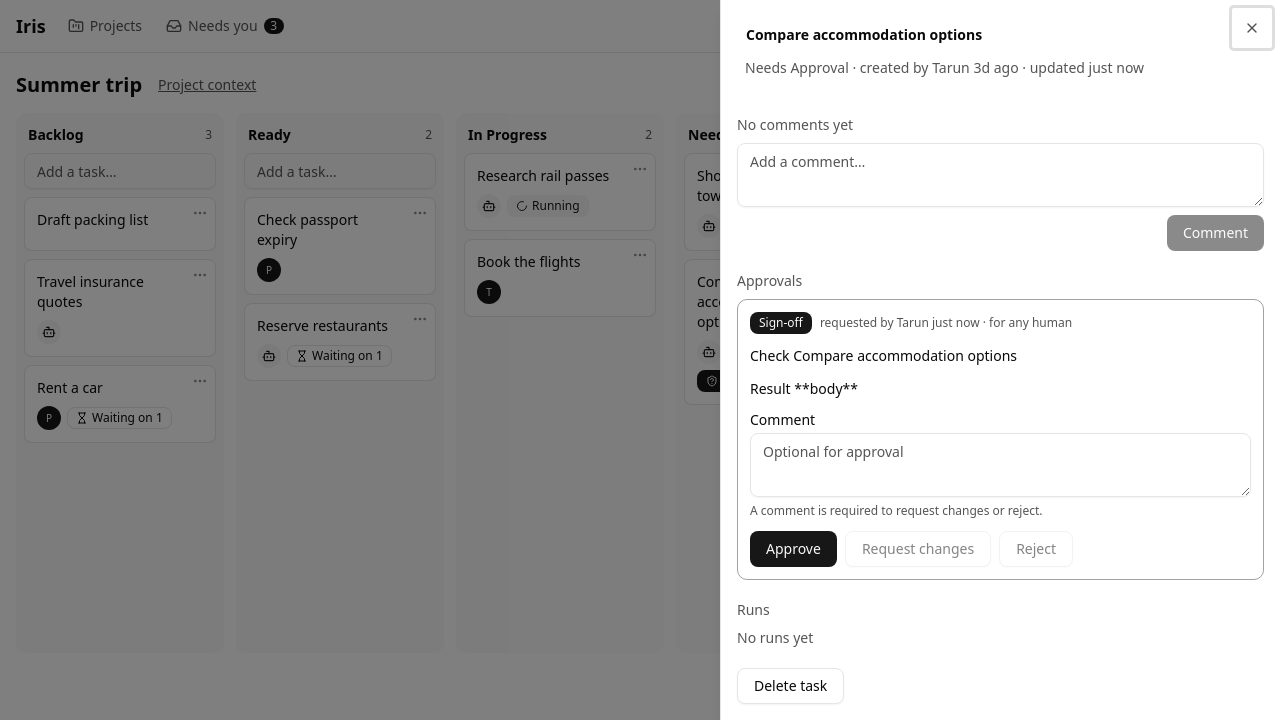
it: approval decisions in the drawer › sign_off + Approve moves the card to approved
(page scrolled)
Expected: the element with test id "pending-approval" is shown, [737,299,1264,580]
Expected: the element named "Backlog" is shown, [16,113,224,653]
Step 1. Click the button "Approve" → [793, 549], box [750,531,837,567]
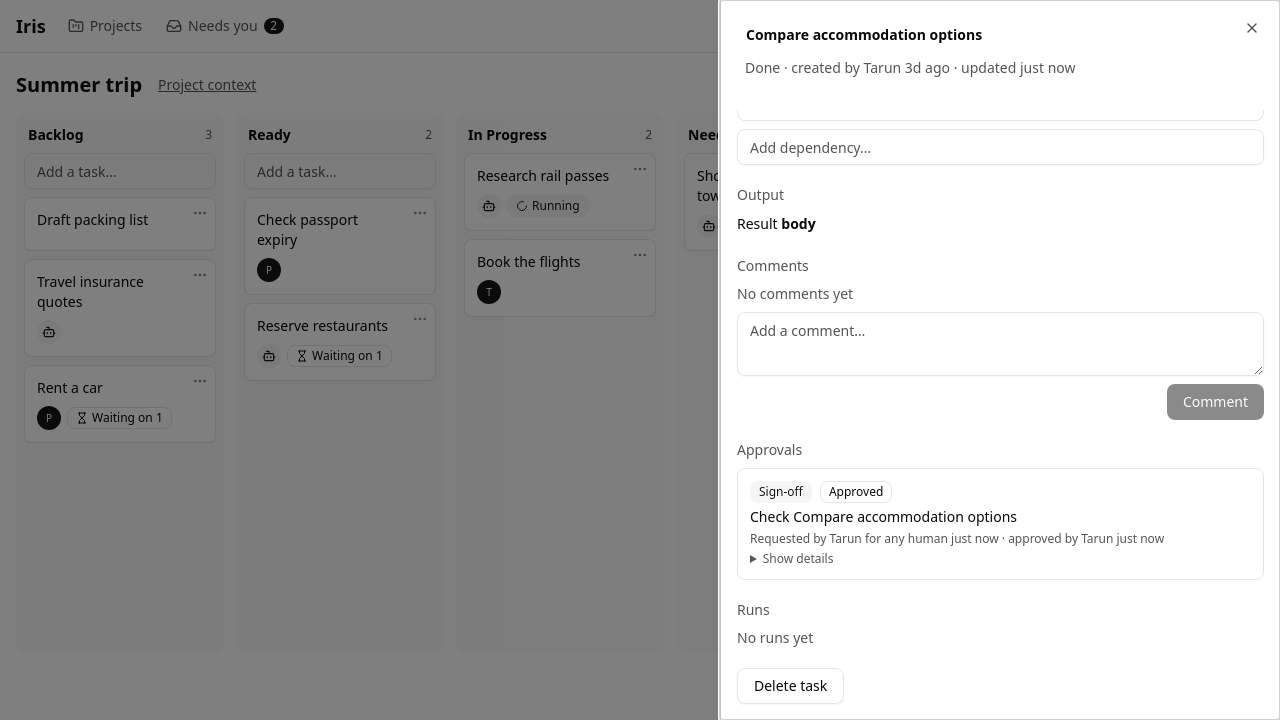
Expected: the text "Compare accommodation options" is shown, [1137,166,1244,225]
Expected: the element with test id "pending-approval" is gone
